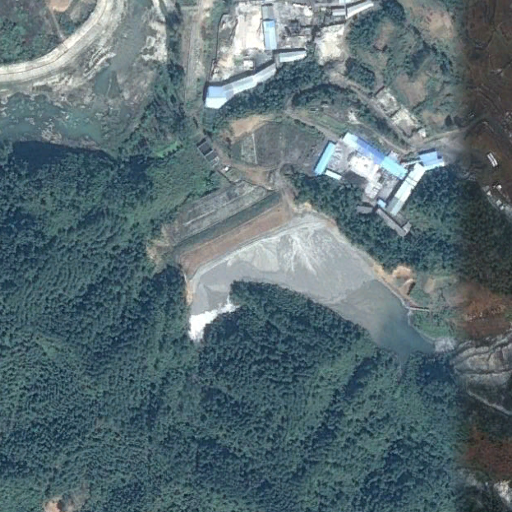tp: (172, 179, 438, 380)
